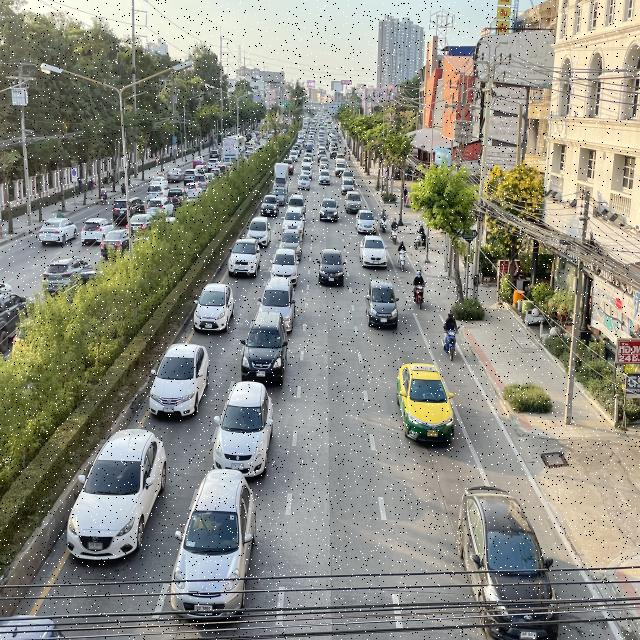bike: (441, 307, 460, 364), (412, 268, 428, 312), (412, 220, 430, 253), (396, 238, 408, 274), (389, 215, 399, 246), (379, 206, 389, 234)
truck: (272, 162, 290, 194)
